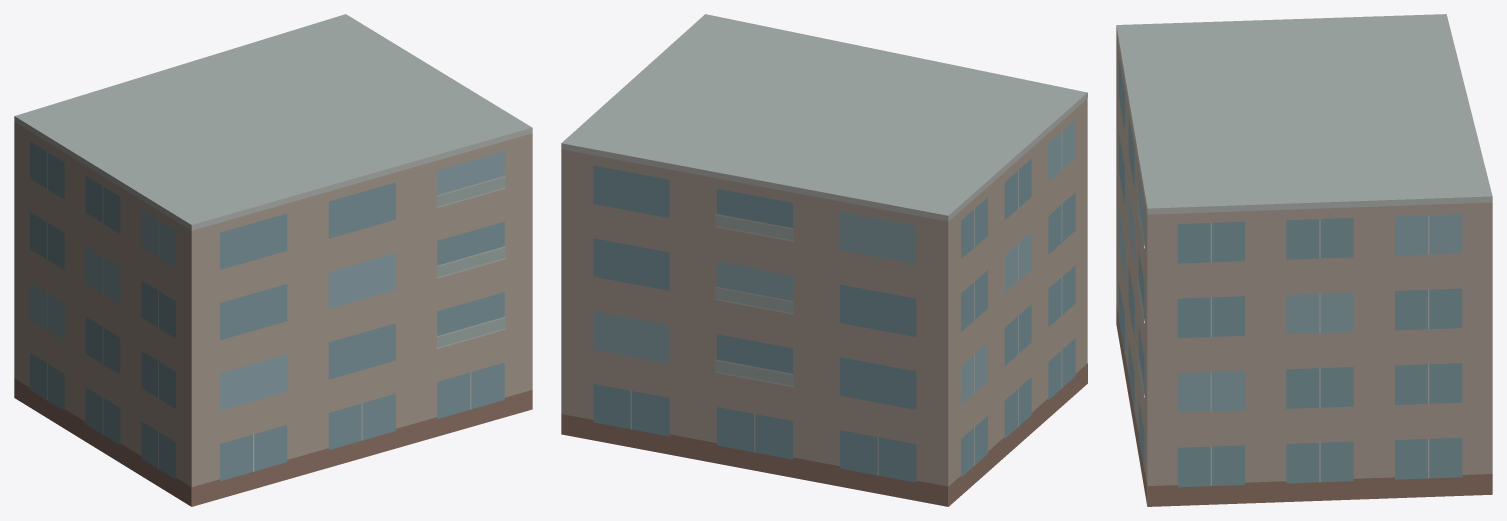
Rendered from survey-upis-32738174.glb.
3 views of the same model, side by side, from view 1: azimuth 30°, elevation 25°; view 2: azimuth 150°, elevation 25°; view 3: azimuth 270°, elevation 25° (orthographic). The views are drawn at different scales.
Visible parts, largest first — view 1: survey-upis-32738174.tmp; view 2: survey-upis-32738174.tmp; view 3: survey-upis-32738174.tmp.
Boxes of the visible parts, left/top/right/bottom form: survey-upis-32738174.tmp: left=14, top=14, right=532, bottom=506; survey-upis-32738174.tmp: left=561, top=14, right=1087, bottom=506; survey-upis-32738174.tmp: left=1116, top=14, right=1492, bottom=506.
Size of the model in its own units: 16.85 by 12.04 by 13.78.
